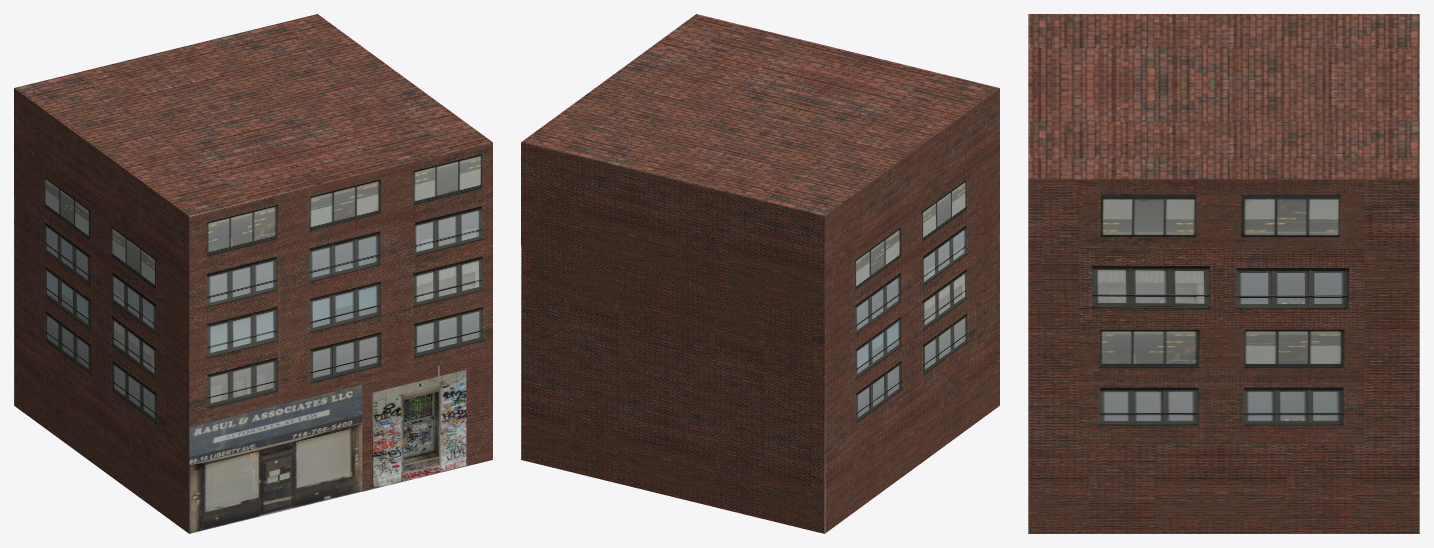
File: edificio 3.fbx
3 views of the same model, side by side, from view 1: azimuth 30°, elevation 25°; view 2: azimuth 150°, elevation 25°; view 3: azimuth 270°, elevation 25° (orthographic). The views are drawn at different scales.
Visible parts, largest first — view 1: Cube; view 2: Cube; view 3: Cube.
Boxes of the visible parts, x1,y1,x2,y2 form: Cube: (14, 14, 492, 533); Cube: (521, 14, 999, 533); Cube: (1028, 14, 1419, 533).
Size of the model in its own units: 200 by 200 by 200.
